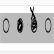correct: (16, 14, 24, 38)
not correct: (28, 6, 38, 36)
